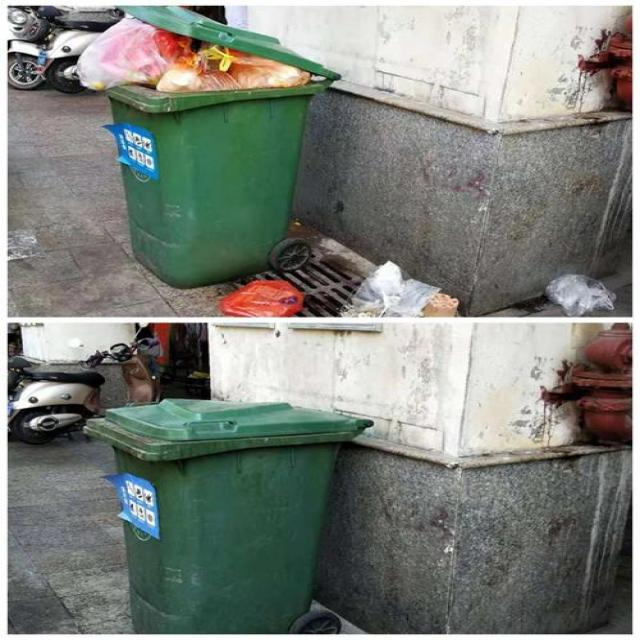garbage: (222, 263, 458, 316), (546, 274, 614, 315)
garbage_bin: (80, 397, 372, 634)
overflow: (77, 4, 338, 288)
